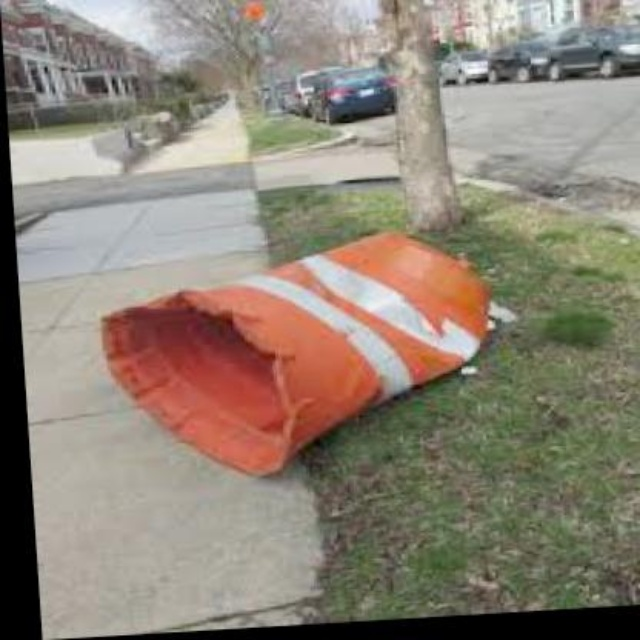obstacle: (79, 224, 505, 506)
